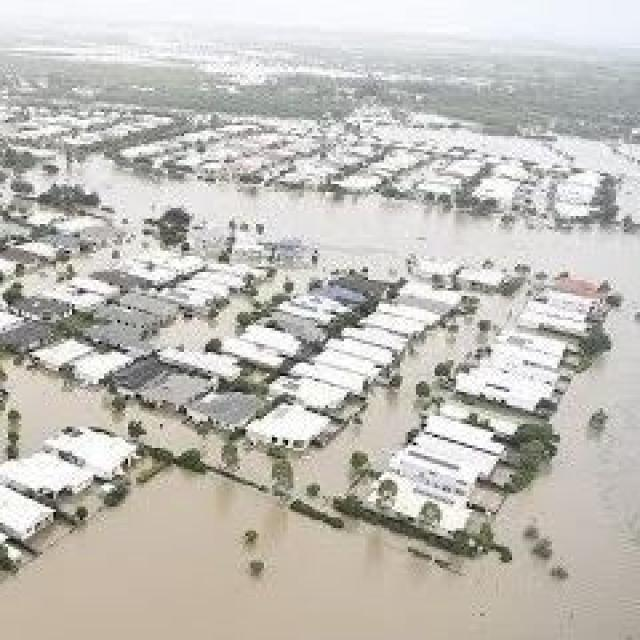flooded_areas: (13, 78, 638, 638)
